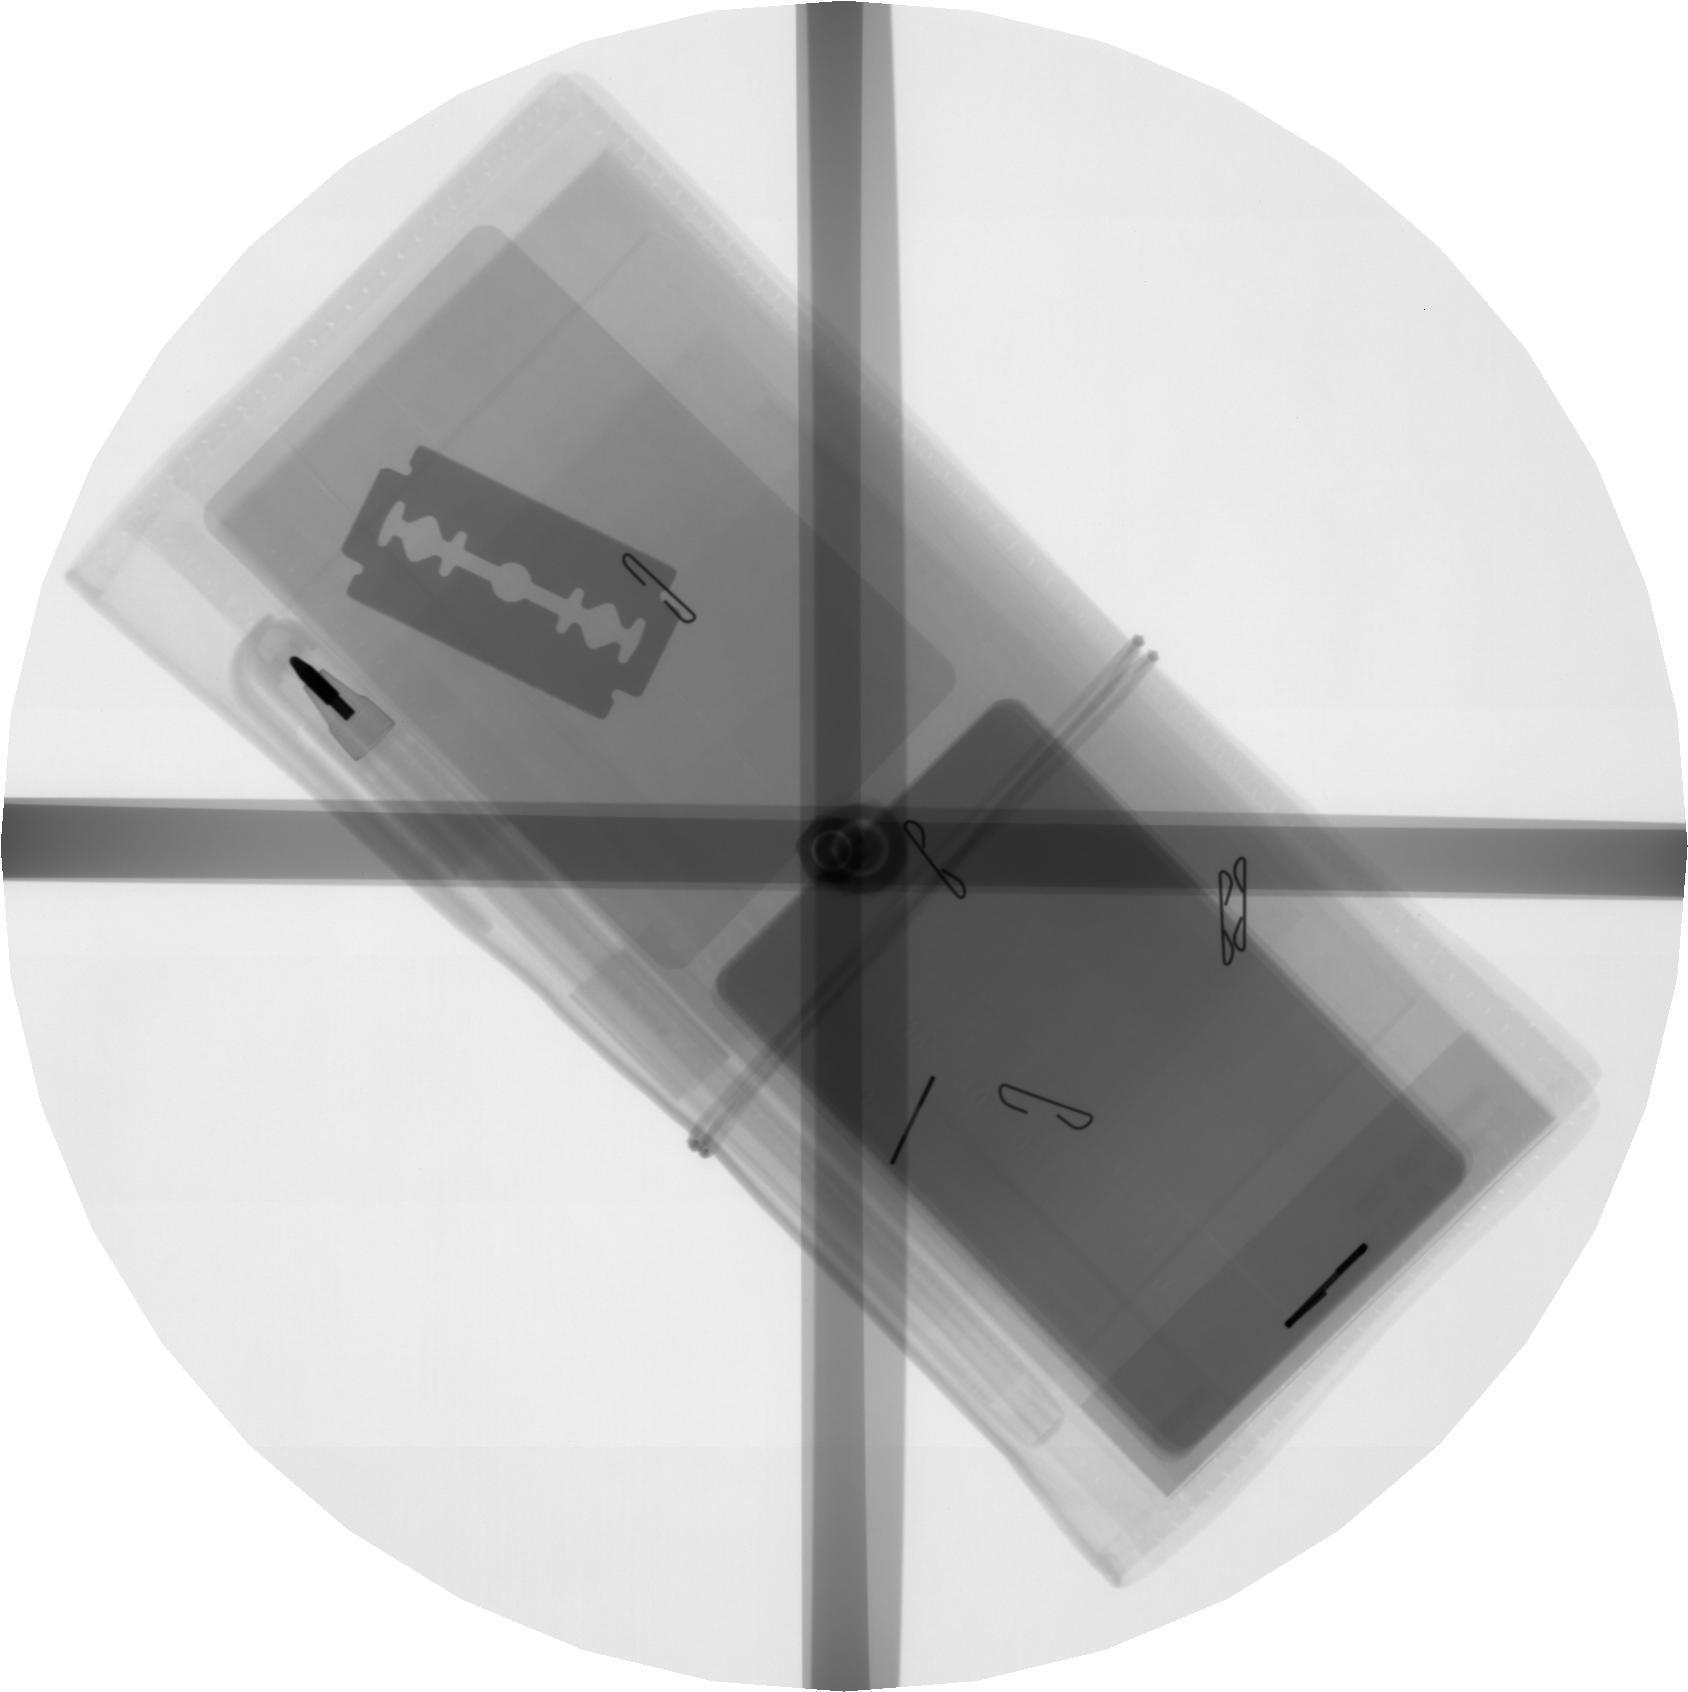RazorBlade: (332, 440, 683, 725)
